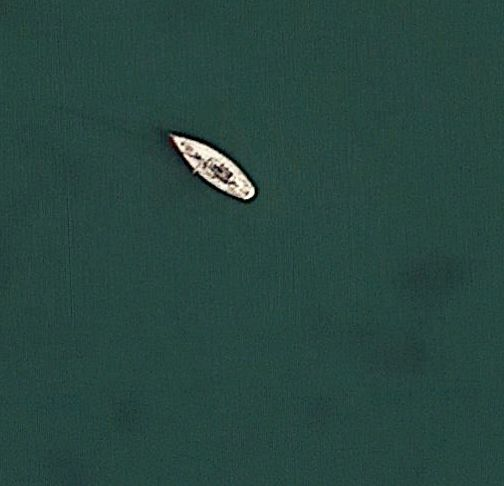boat: (163, 129, 260, 205)
